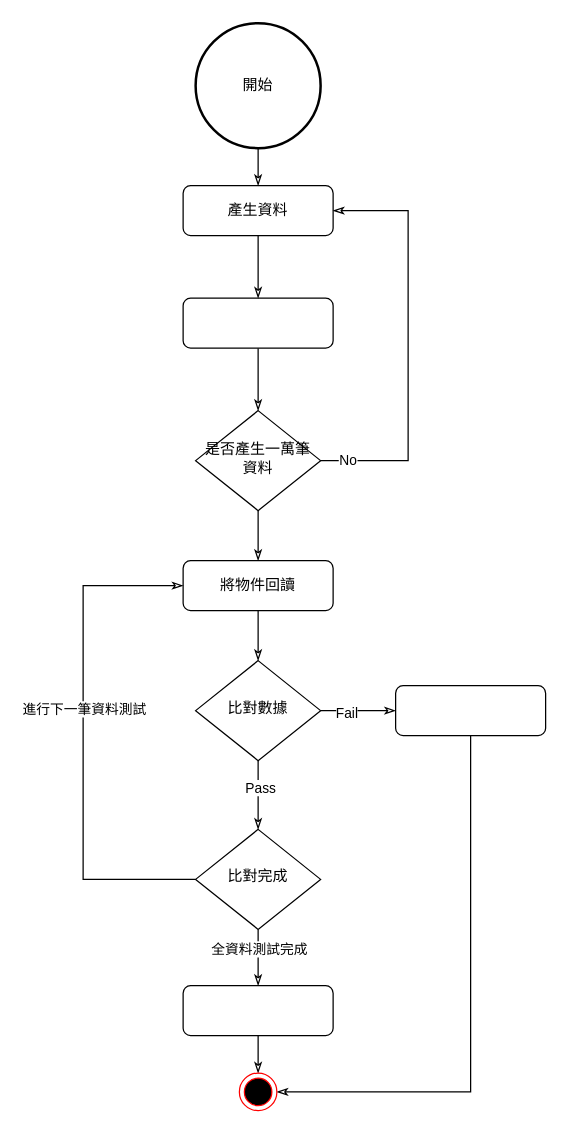
The diagram is 568 pixels wide and 1133 high, and some of its shapes have lost their labels. The shapes that lost their labels are listed below. From the top down, each one's centre as x and y in pixels, then its label:
At (x=257, y=322): "寫入物件內".
At (x=470, y=710): "測試失敗".
At (x=257, y=1010): "測試Pass".
